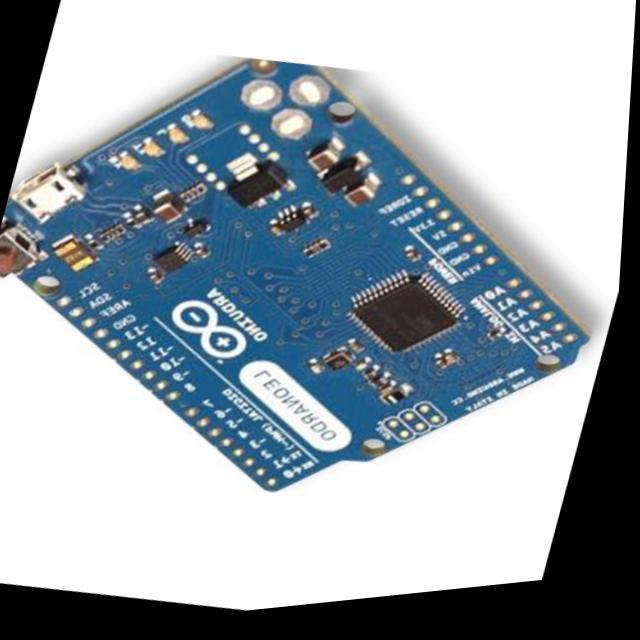Arduino-leonardo: (1, 61, 587, 491)
